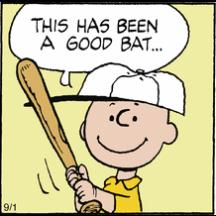charlie: (65, 61, 185, 214)
